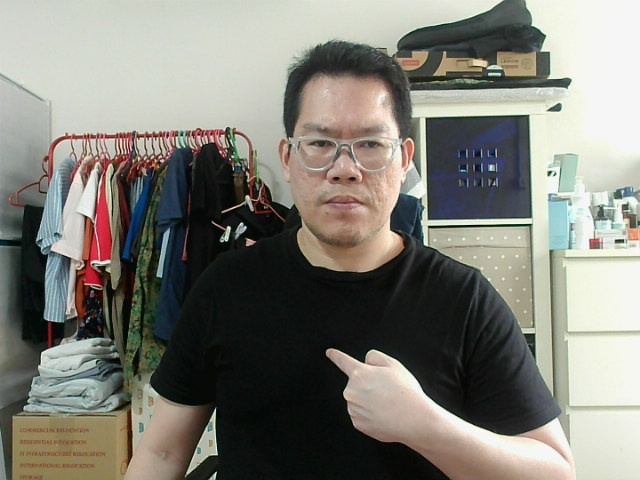I: (329, 350, 414, 422)
